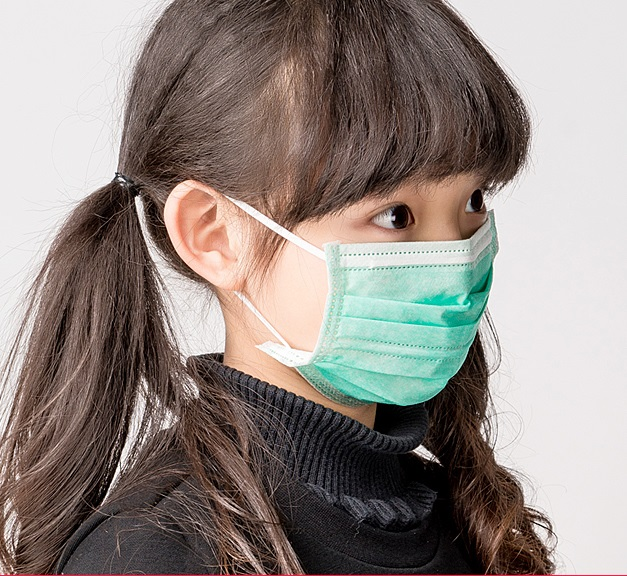face_mask: (286, 101, 493, 404)
